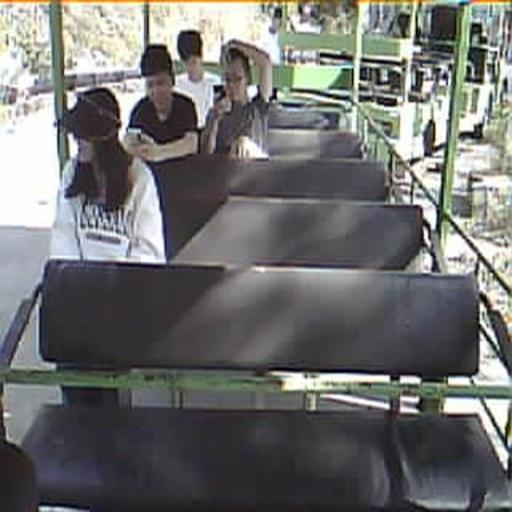persona: (49, 86, 167, 264), (126, 43, 200, 165), (203, 38, 273, 160), (174, 29, 215, 129)
